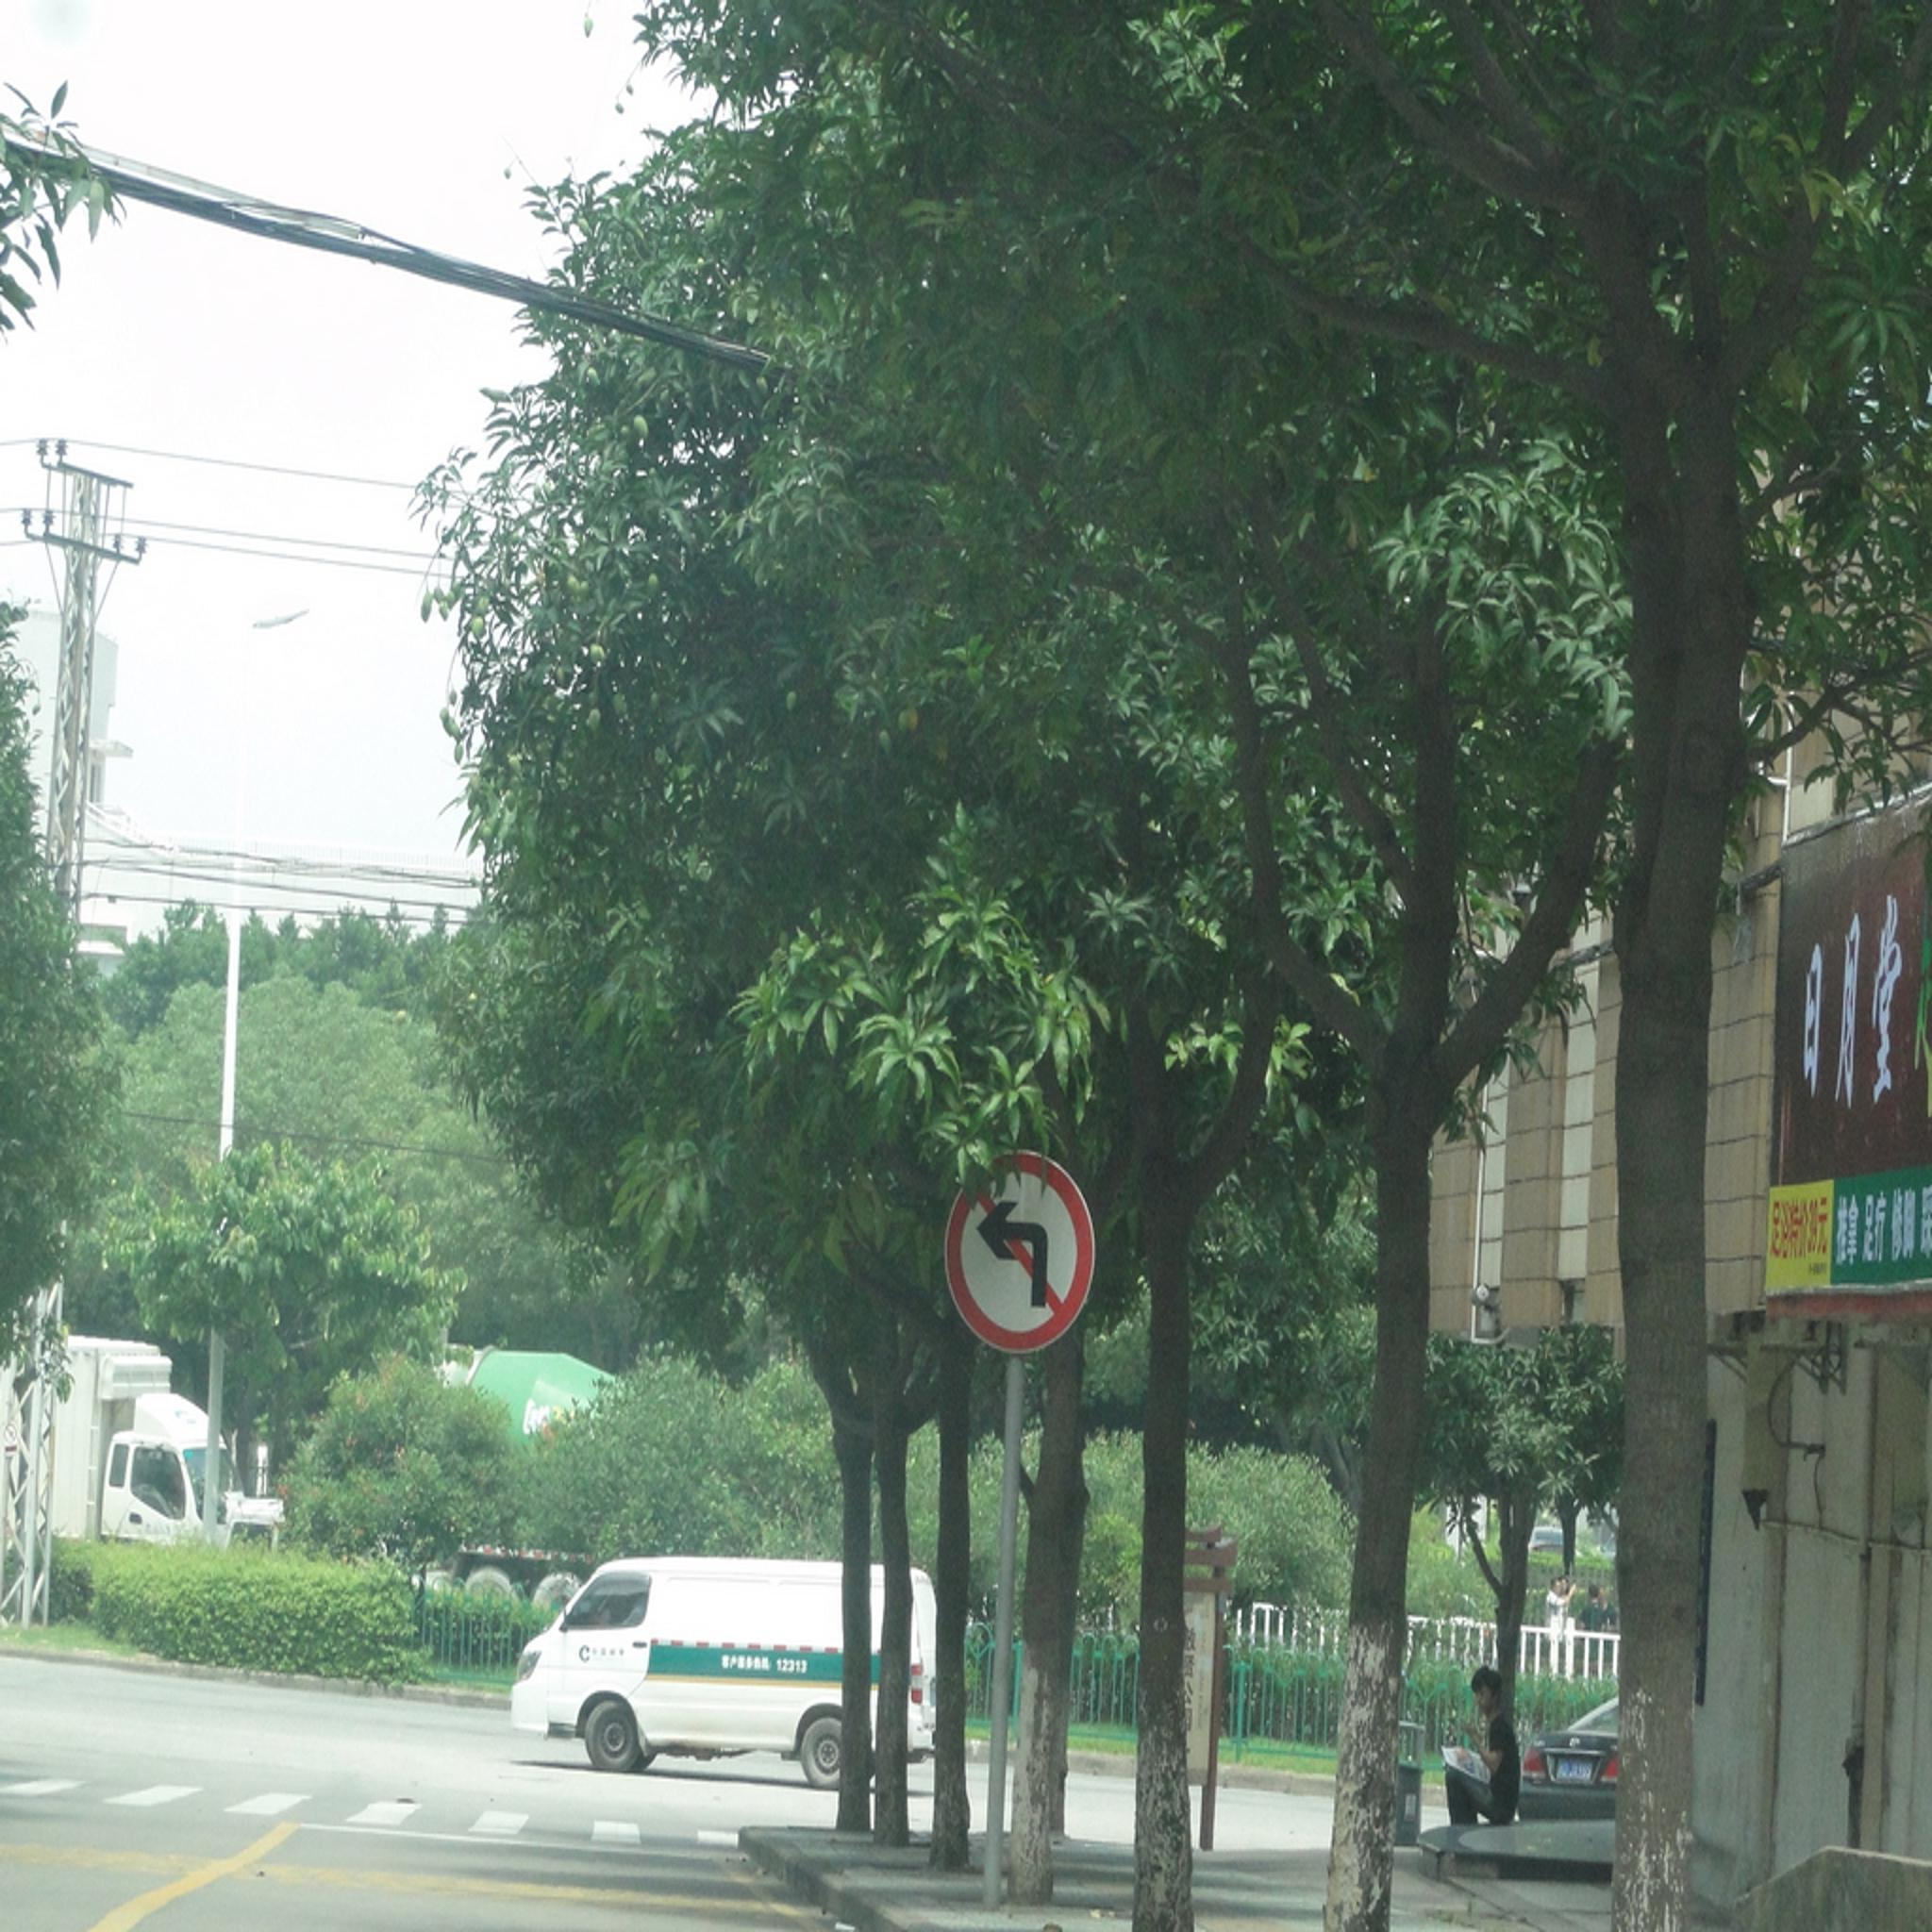p23: (939, 1150, 1093, 1355)
